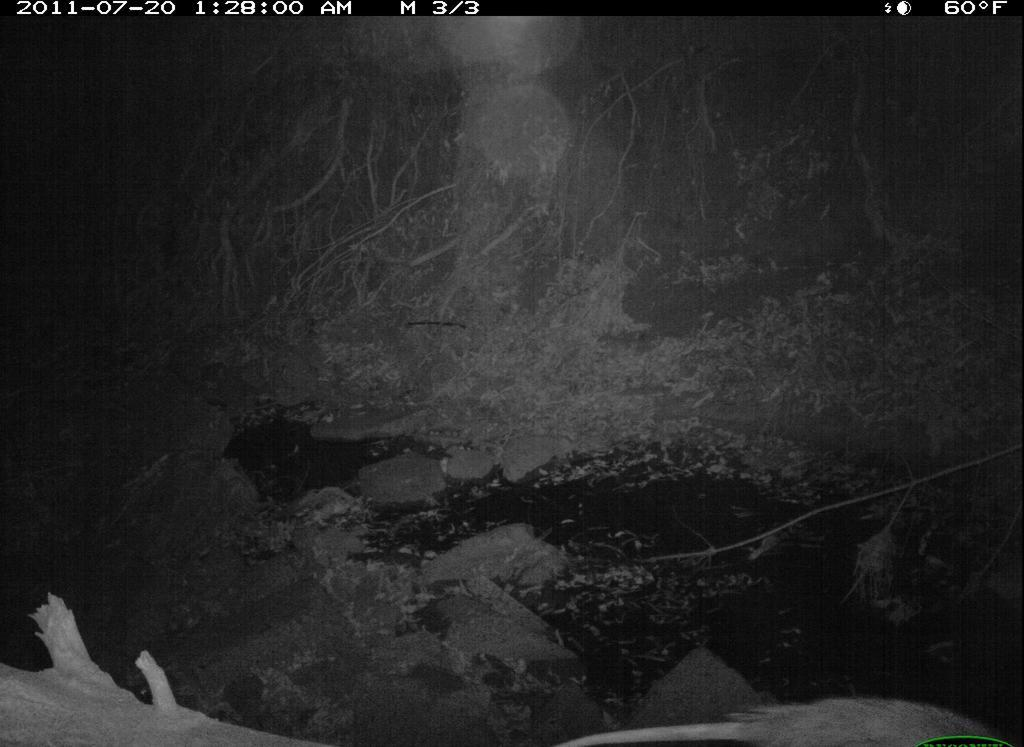opossum: (515, 662, 1023, 747)
